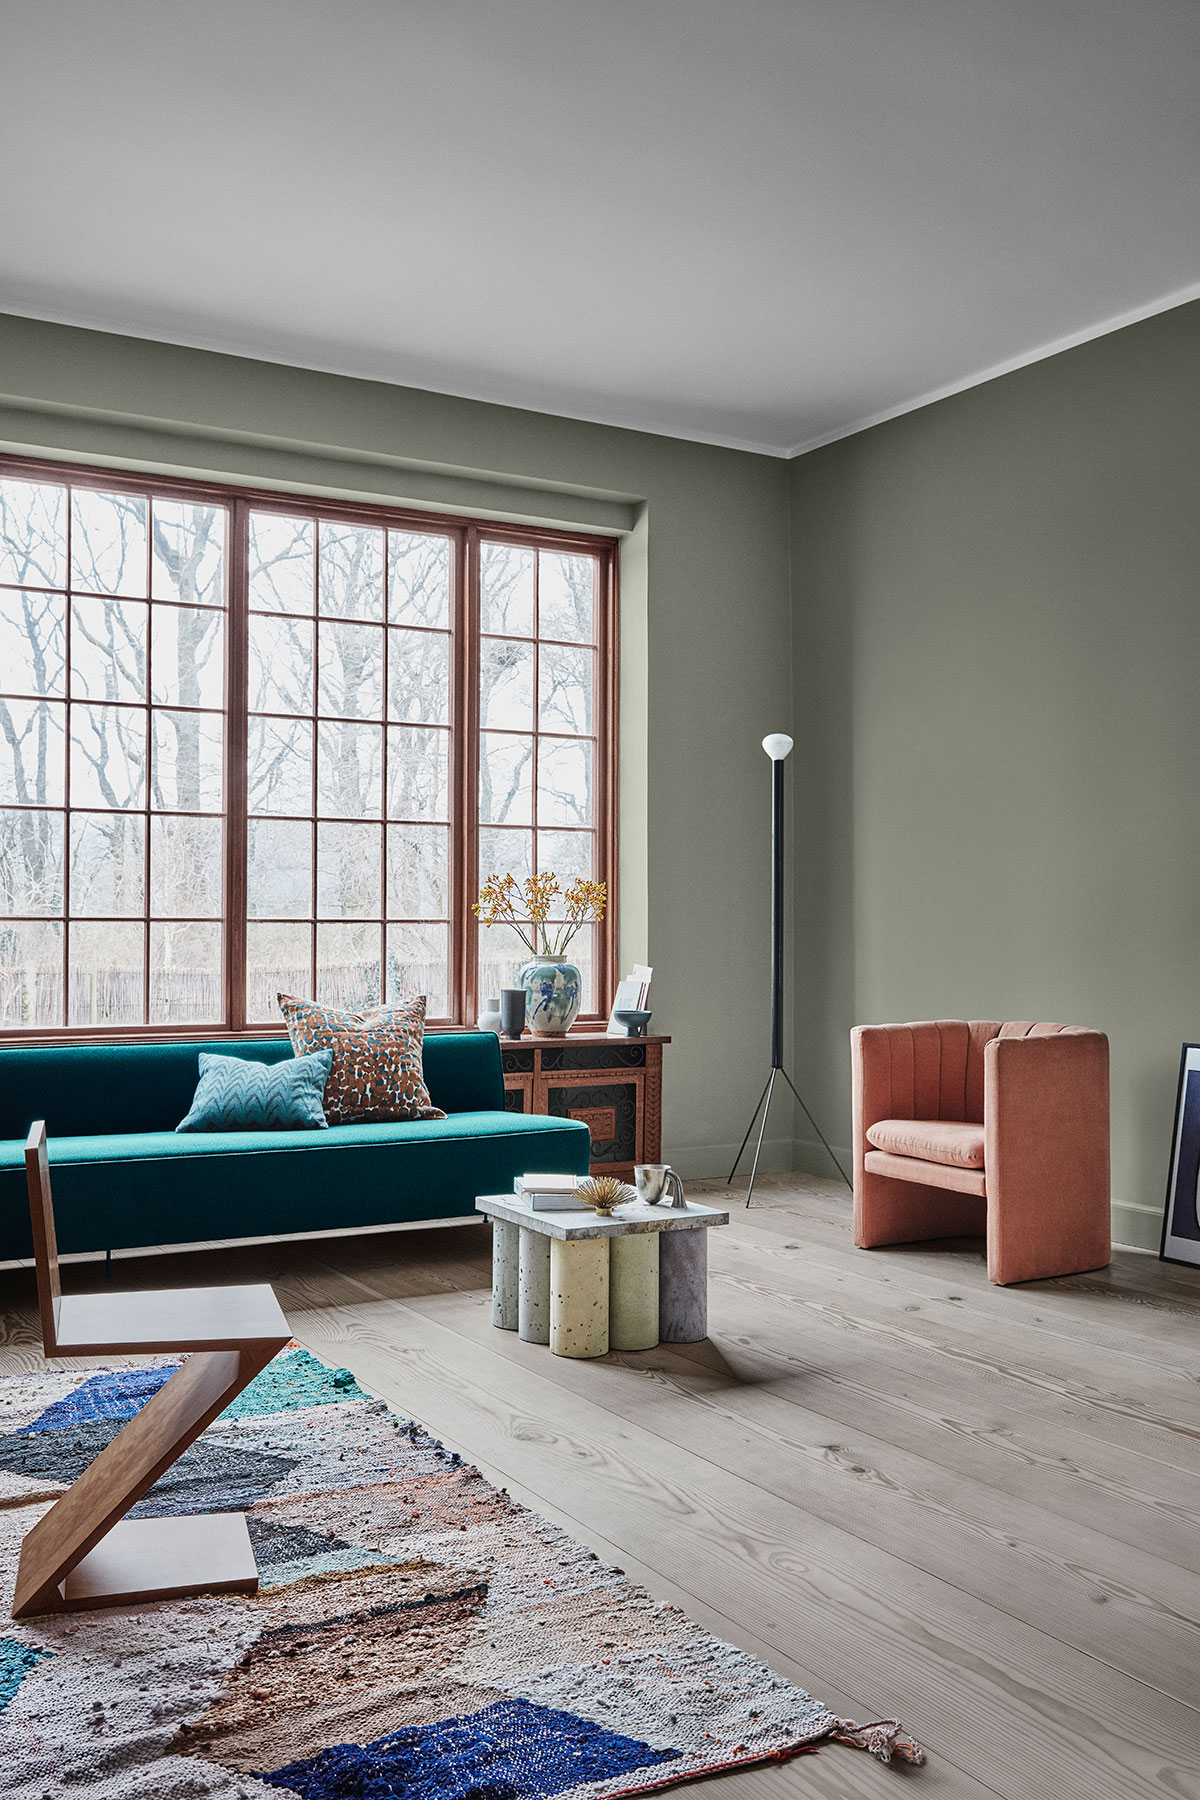bantal: (284, 1000, 433, 1120), (179, 1055, 324, 1137)
buku: (524, 1172, 601, 1223)
gelas: (629, 1161, 688, 1209)
kursi: (830, 1008, 1124, 1294)
meja: (467, 1171, 725, 1357)
sova: (1, 1029, 567, 1287)
tanaman: (483, 876, 596, 1030)
